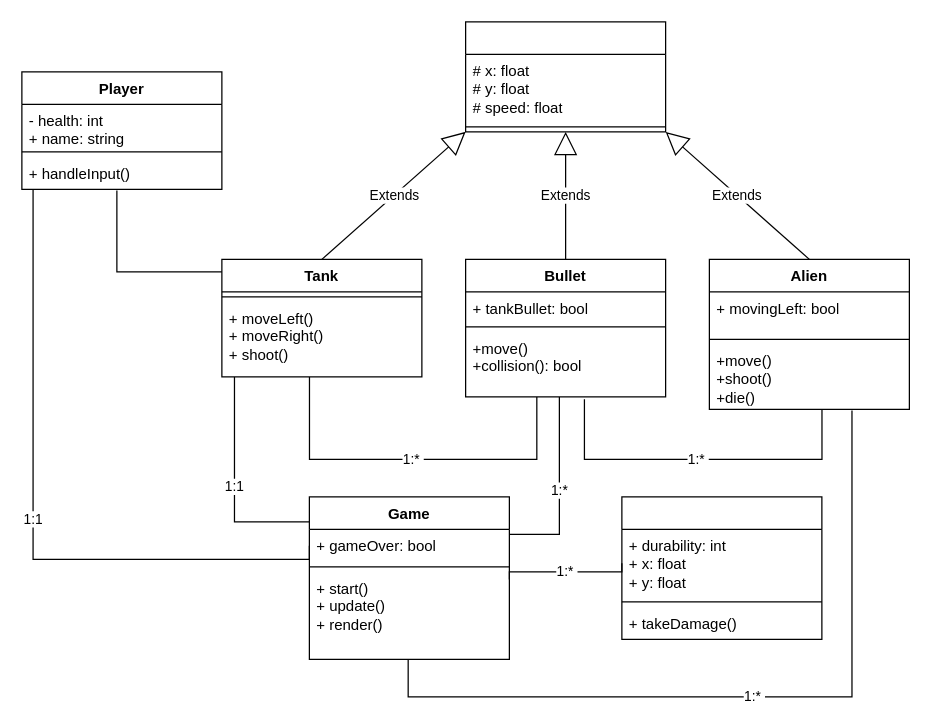
Some shapes in this 931 by 726 pixel diagram are drawn without their labels. The shapes that lost their labels are listed below. From the top down, each one's box as (x1, y1, x2, y2) in pixels, then its label:
(464, 21, 666, 132): Entity
(621, 496, 822, 639): Shield
